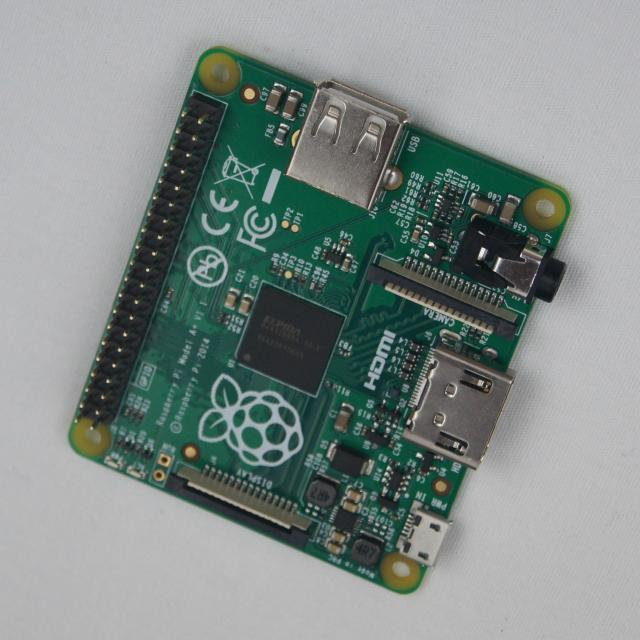Raspberry-Pi-1-A-: (71, 47, 570, 594)
